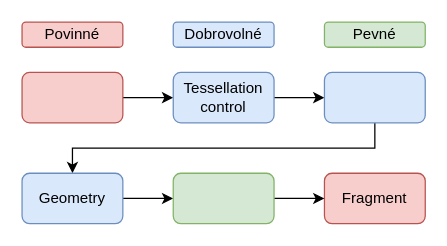
Image size: 447x246. Some labels were removed from this diagram. The shapes that lost their labels are listed below. From the top down, each one's centre as x and y in pixels, then its label:
(72,97): Vertex
(374,97): Tessellation evaluation
(223,198): Rasterizace
